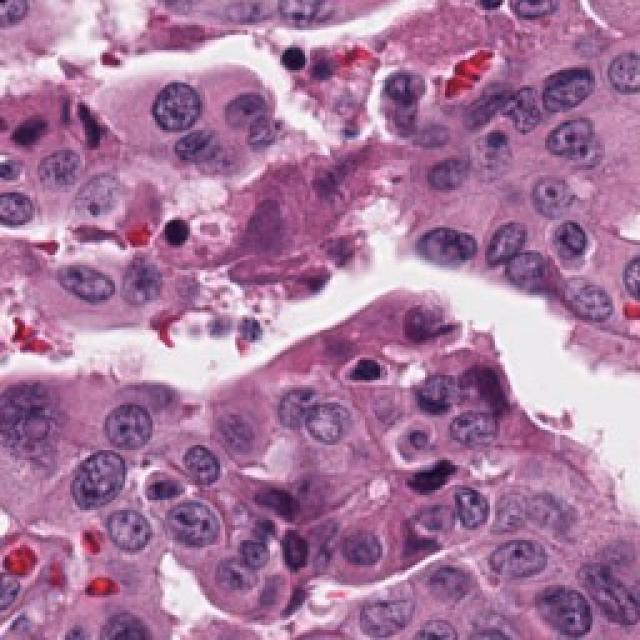abnormal: (402, 204, 490, 292), (72, 156, 148, 252), (297, 386, 385, 466), (88, 496, 172, 579), (64, 435, 146, 519), (539, 109, 618, 189), (87, 383, 178, 450), (410, 133, 491, 208), (468, 524, 548, 593), (45, 256, 116, 333), (321, 512, 399, 580), (521, 586, 611, 640), (395, 351, 460, 425), (434, 470, 494, 548), (372, 62, 444, 125), (439, 404, 509, 466), (171, 491, 227, 560), (139, 76, 201, 136), (549, 221, 611, 275), (541, 64, 606, 112), (479, 206, 525, 271), (256, 378, 319, 424), (284, 428, 312, 429)
